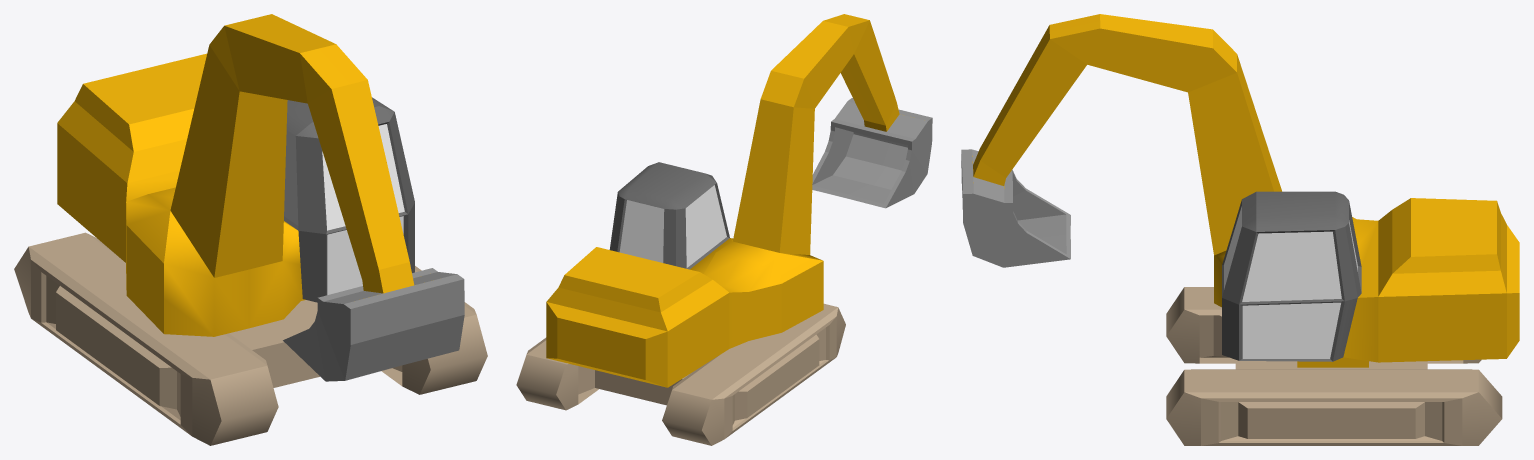
Rendered from digger.fbx.
3 renders of one model, left to right at view 1: azimuth 30°, elevation 25°; view 2: azimuth 150°, elevation 25°; view 3: azimuth 270°, elevation 25°, orthographic. The views are drawn at different scales.
Visible parts, largest first — view 1: pCube1; view 2: pCube1; view 3: pCube1.
Part boxes in pixels (left/top/right/bottom): pCube1: left=14, top=14, right=487, bottom=445; pCube1: left=516, top=14, right=932, bottom=445; pCube1: left=961, top=14, right=1519, bottom=445.
Size of the model in its own units: 18.98 by 26.3 by 38.98.
